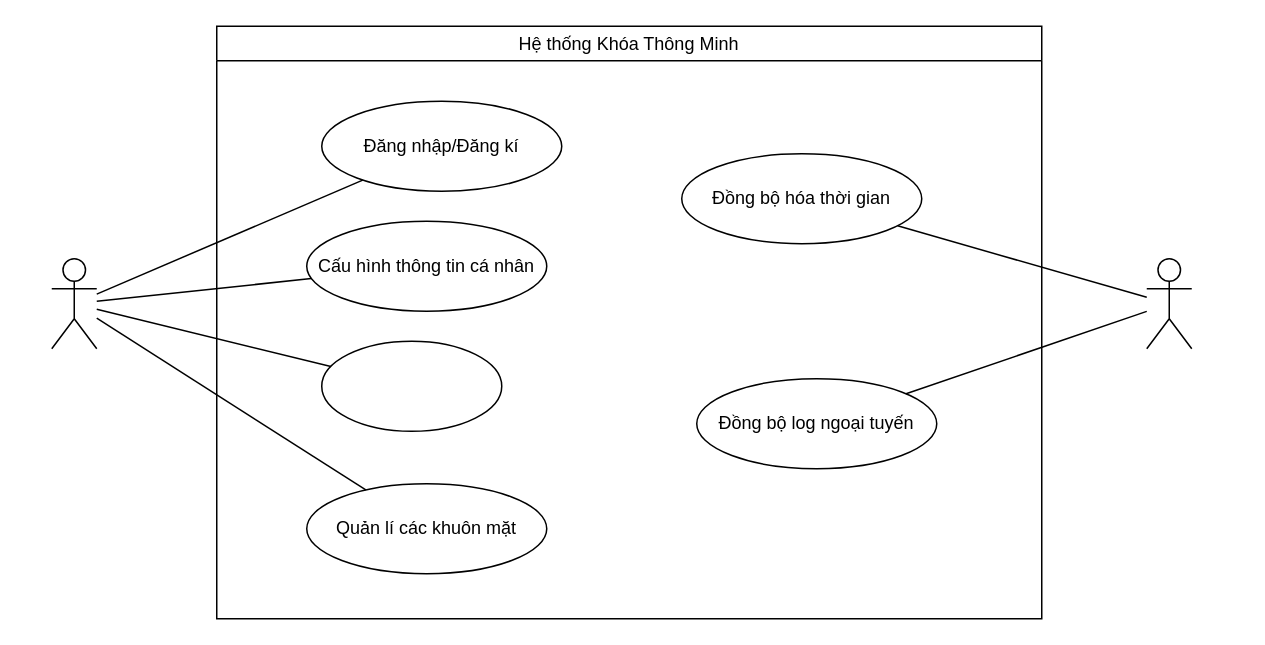
This 1265x645 diagram has some shape labels left out. Each missing label, with the centre of its shape:
Mở khóa: the point at 411,385
Người dùng: the point at 73,303
Thiết bị (ESP32-S3 Cam): the point at 1168,303
